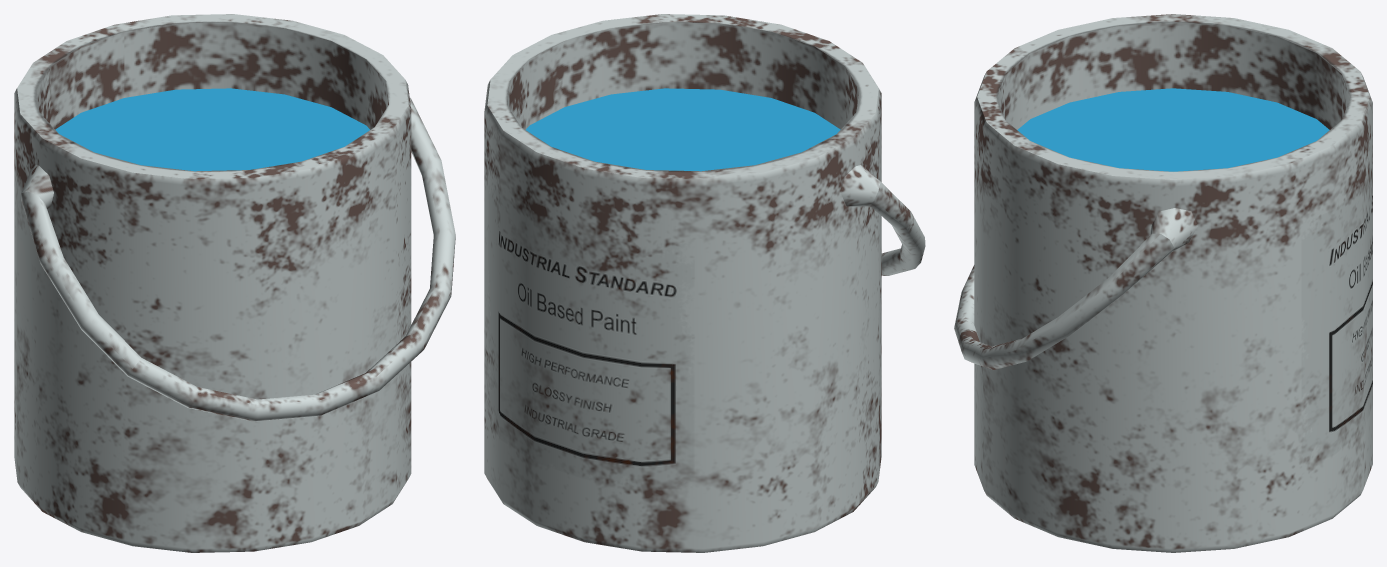
Rendered from metal_paint_can.glb.
3 views of the same model, side by side, from view 1: azimuth 30°, elevation 25°; view 2: azimuth 150°, elevation 25°; view 3: azimuth 270°, elevation 25° (orthographic).
Parts seen in each view (by area): view 1: pCylinder15; view 2: pCylinder15; view 3: pCylinder15.
Part boxes in pixels (box(x1,y1,x2,y2)): pCylinder15: box(14, 14, 455, 552); pCylinder15: box(484, 14, 925, 552); pCylinder15: box(954, 14, 1372, 552).
Bounding box in the file's own units: 27.5 × 24.43 × 24.86.
Materials: 1 (1 with a texture image).
